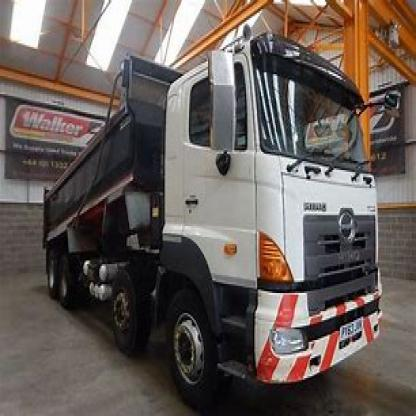dump_truck: (33, 27, 385, 394)
